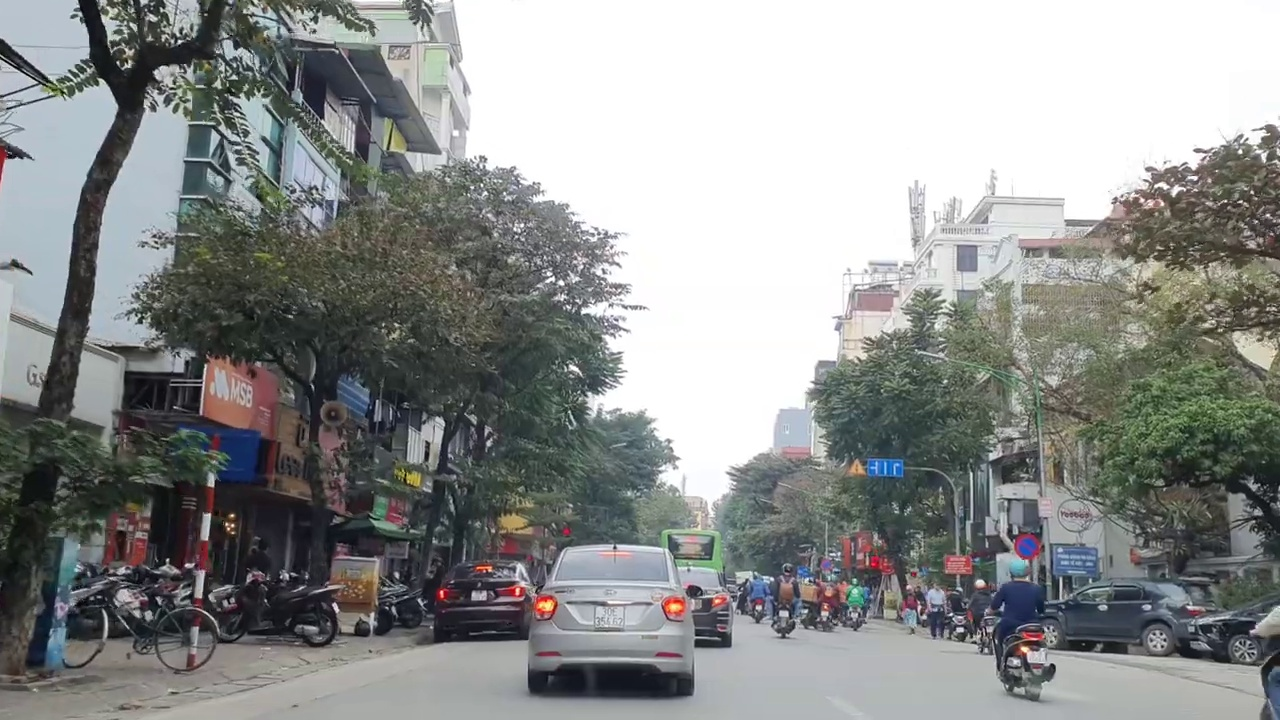person: (1026, 645, 1046, 666)
